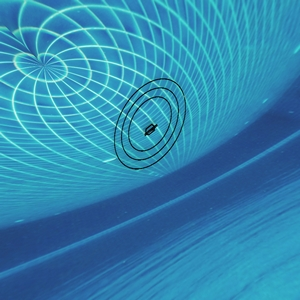circle: (103, 66, 208, 180)
submarine: (143, 124, 157, 135)
